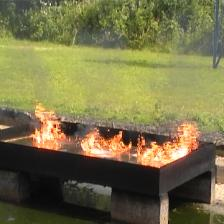fire: (32, 106, 200, 161)
